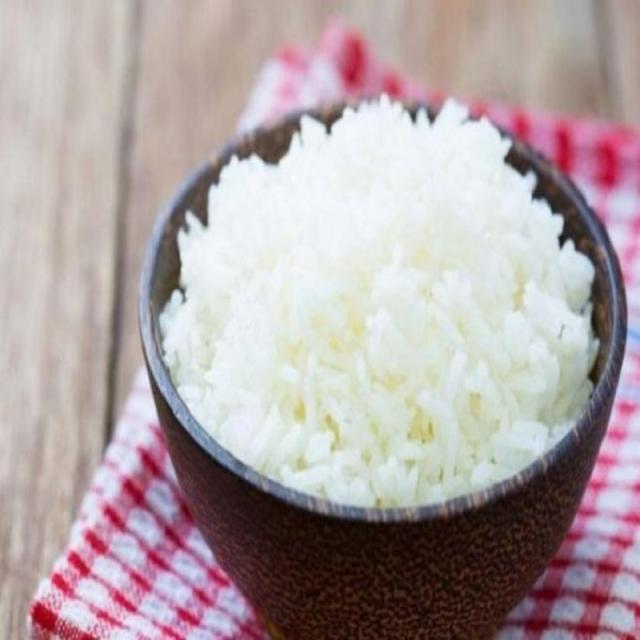nasi_putih: (161, 95, 598, 509)
